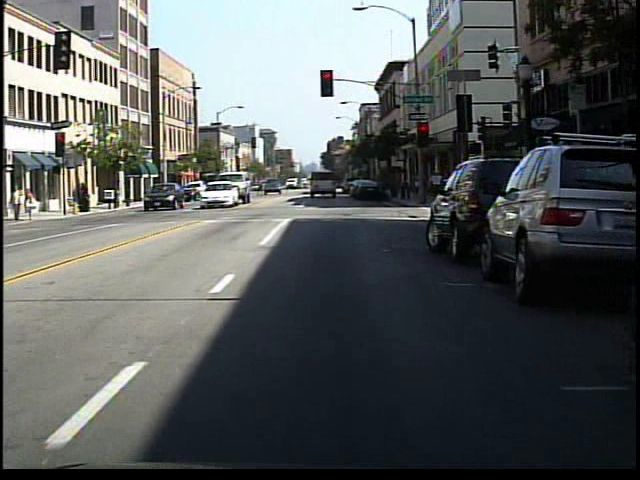person: (9, 183, 27, 226), (426, 166, 445, 205), (23, 185, 40, 220)
